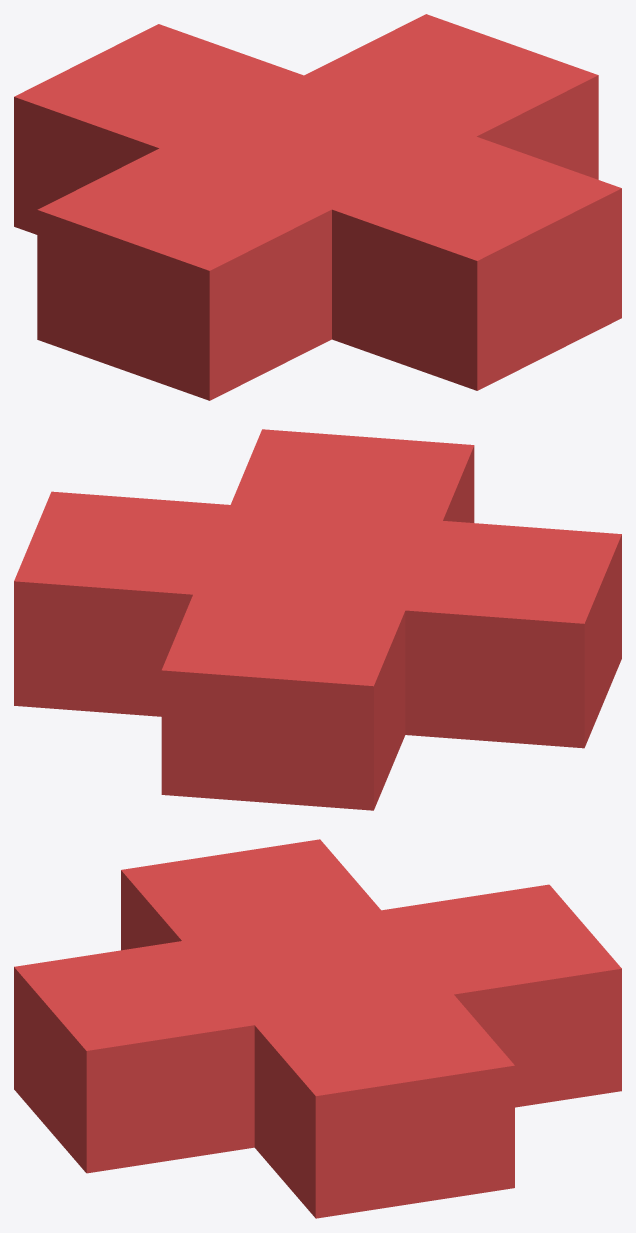
The model's file is cross.dae.
3 views of the same model, one above another, from view 1: azimuth 30°, elevation 25°; view 2: azimuth 150°, elevation 25°; view 3: azimuth 270°, elevation 25° (orthographic). The views are drawn at different scales.
Visible parts, largest first — view 1: cross1; view 2: cross1; view 3: cross1.
Part boxes in pixels (bbox=[...]): cross1: bbox=[14, 14, 621, 400]; cross1: bbox=[14, 429, 621, 810]; cross1: bbox=[14, 839, 621, 1218].
Bounding box in the file's own units: 0.09 × 0.09 × 0.02.
